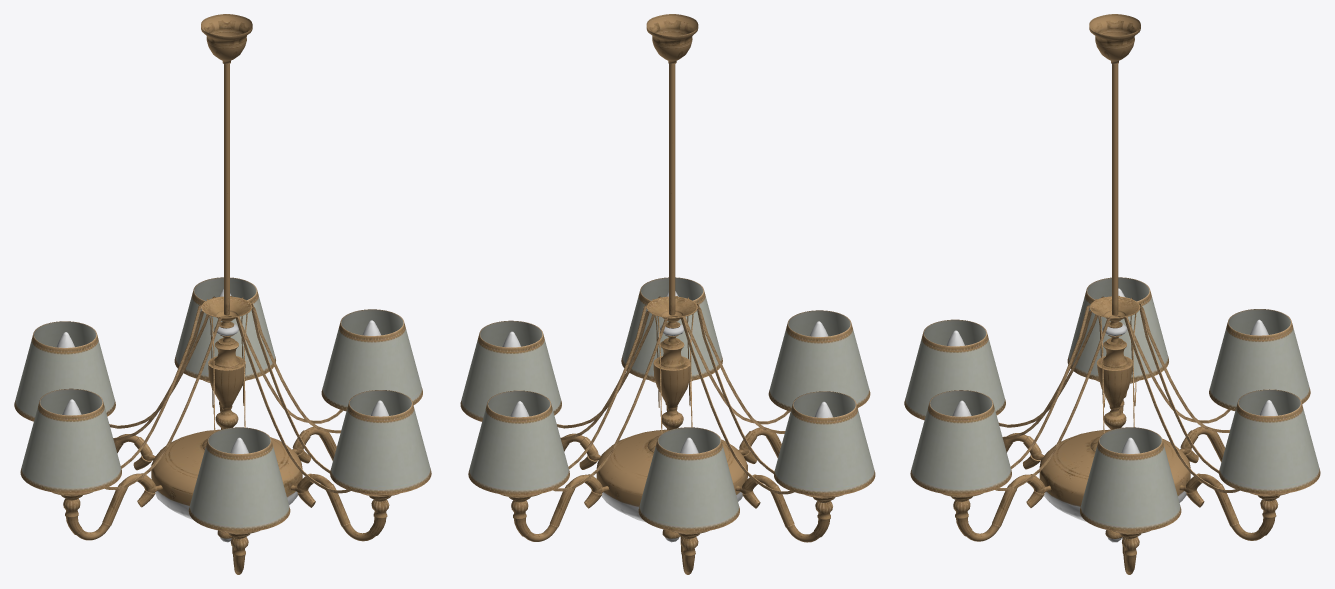
The model's file is Chandelier_02.glb.
The picture shows the model from 3 angles, left to right: view 1: azimuth 30°, elevation 25°; view 2: azimuth 150°, elevation 25°; view 3: azimuth 270°, elevation 25°; orthographic projection.
Parts seen in each view (by area): view 1: Chandelier_02; view 2: Chandelier_02; view 3: Chandelier_02.
Boxes of the visible parts, x1,y1,x2,y2 form: Chandelier_02: (14, 14, 431, 574); Chandelier_02: (460, 14, 875, 574); Chandelier_02: (904, 14, 1320, 574).
Bounding box in the file's own units: 0.679 × 0.8481 × 0.6191.
Materials: 2 (1 with a texture image).
